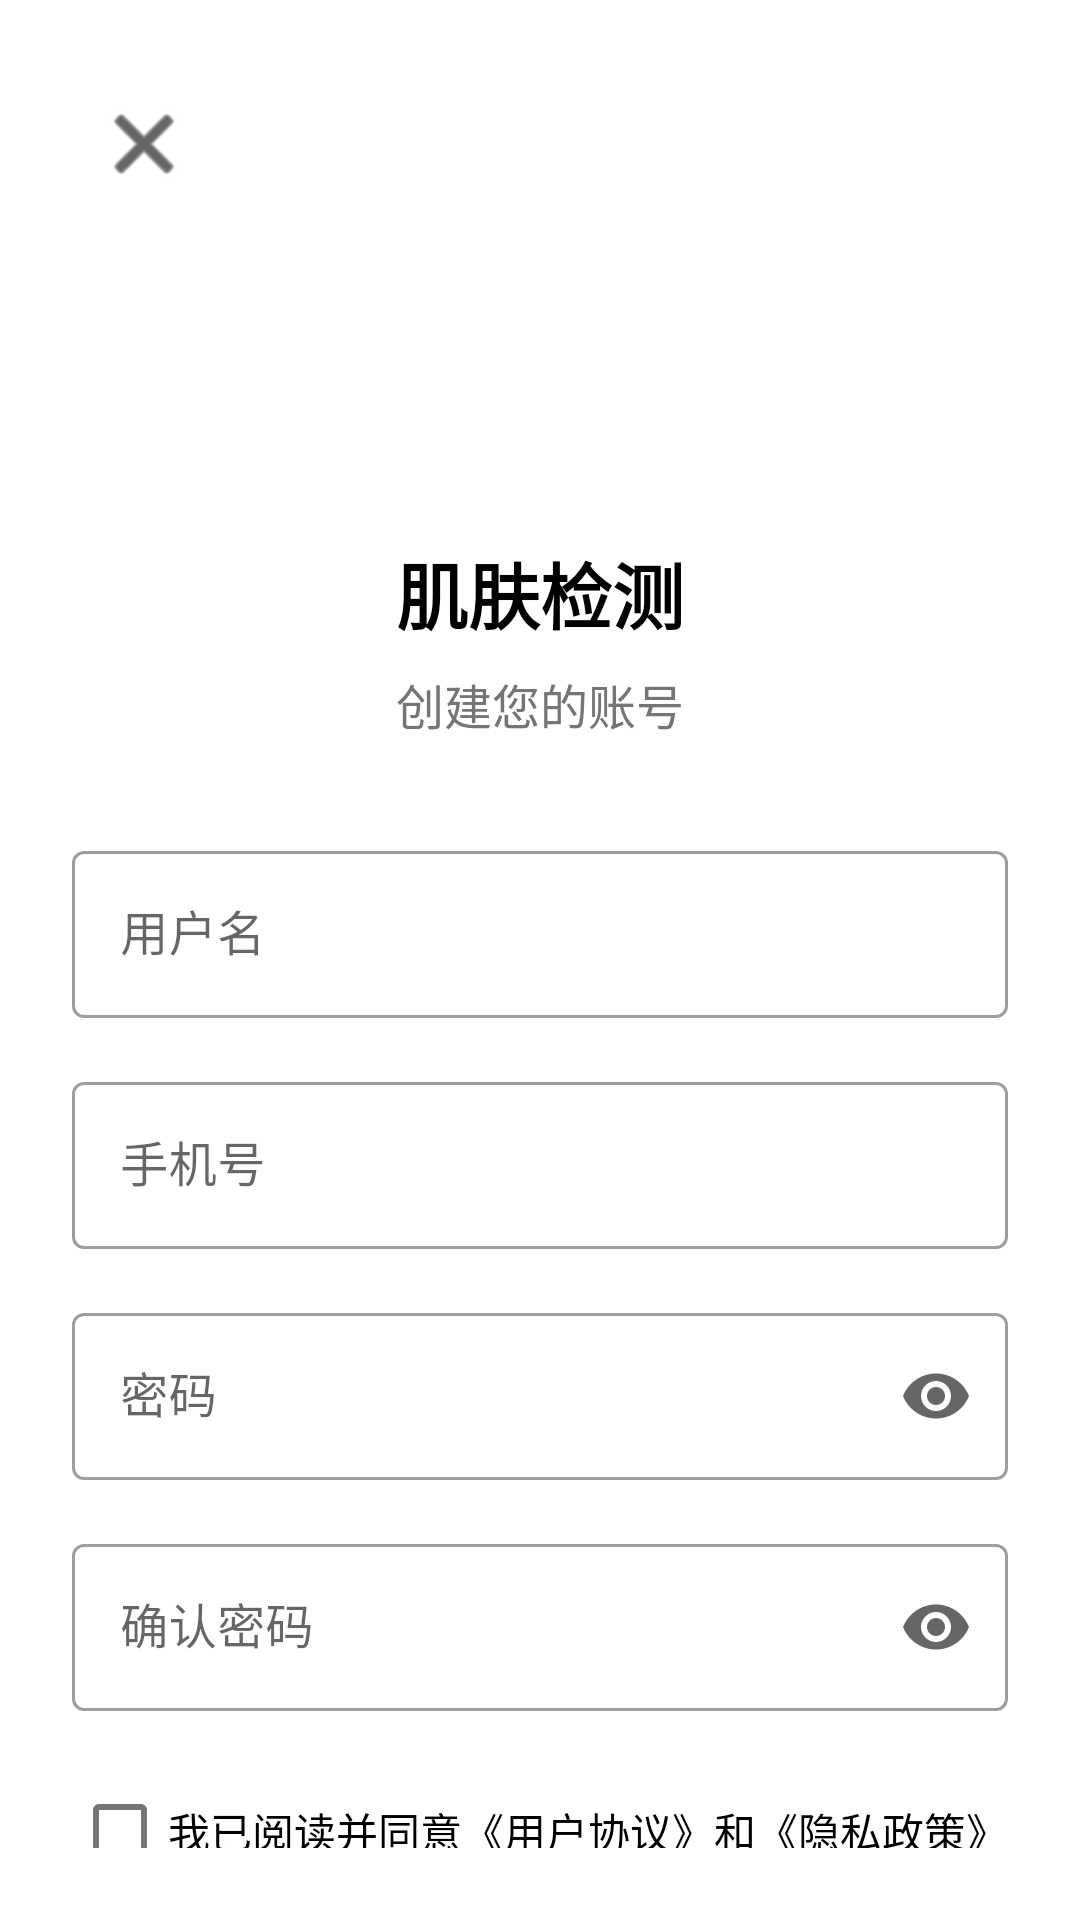

Where to tap for icons on this 1080*1920 app screen, as [x,y]:
close clear cancel: [144,144]
